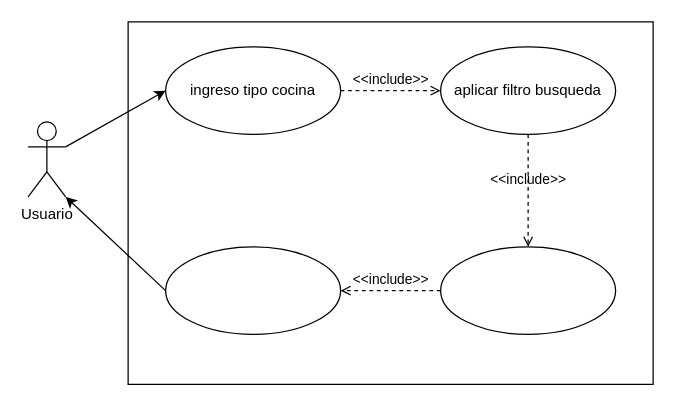
This 675x406 diagram has some shape labels left out. Each missing label, with the centre of its shape:
"presentar resultados" goes at point 252,290.
"realizar busqueda" goes at point 527,290.
